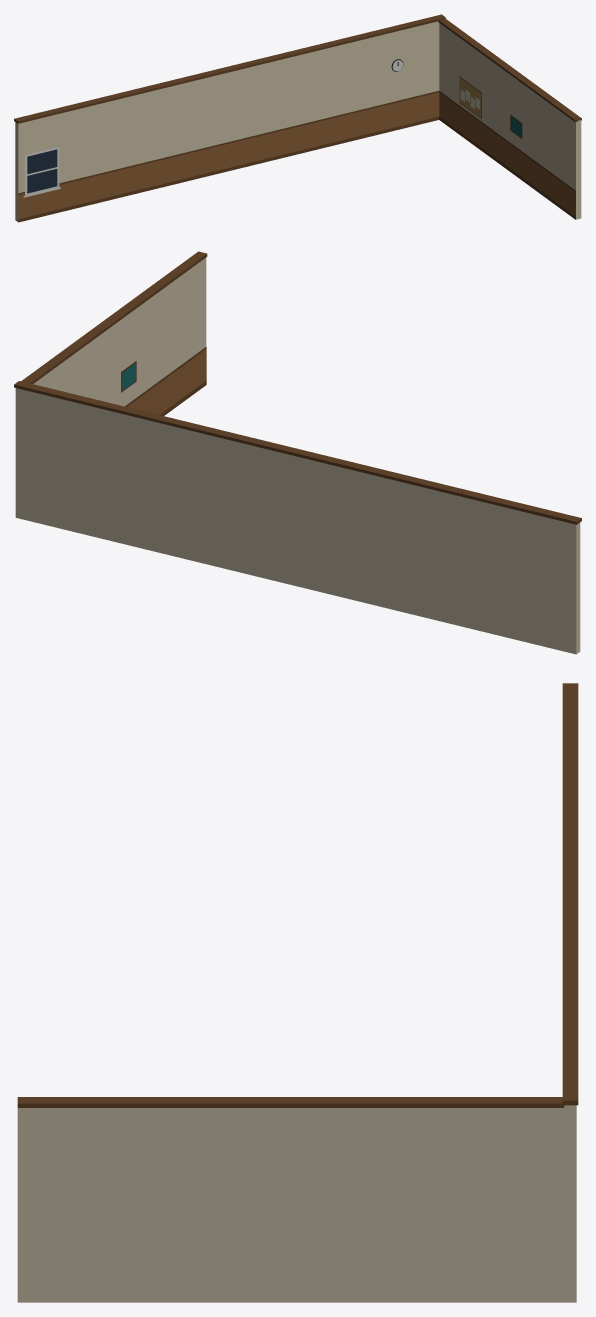
File: bld_room_library.glb
3 renders of one model, top to bottom at view 1: azimuth 30°, elevation 25°; view 2: azimuth 150°, elevation 25°; view 3: azimuth 270°, elevation 25°, orthographic. The views are drawn at different scales.
Visible parts, largest first — view 1: body; view 2: body; view 3: body.
Boxes of the visible parts, box(x1,y1,x2,y2) form: body: box(14, 14, 581, 222); body: box(14, 251, 581, 654); body: box(17, 683, 578, 1302).
Size of the model in its own units: 16.26 by 3.68 by 9.23.
